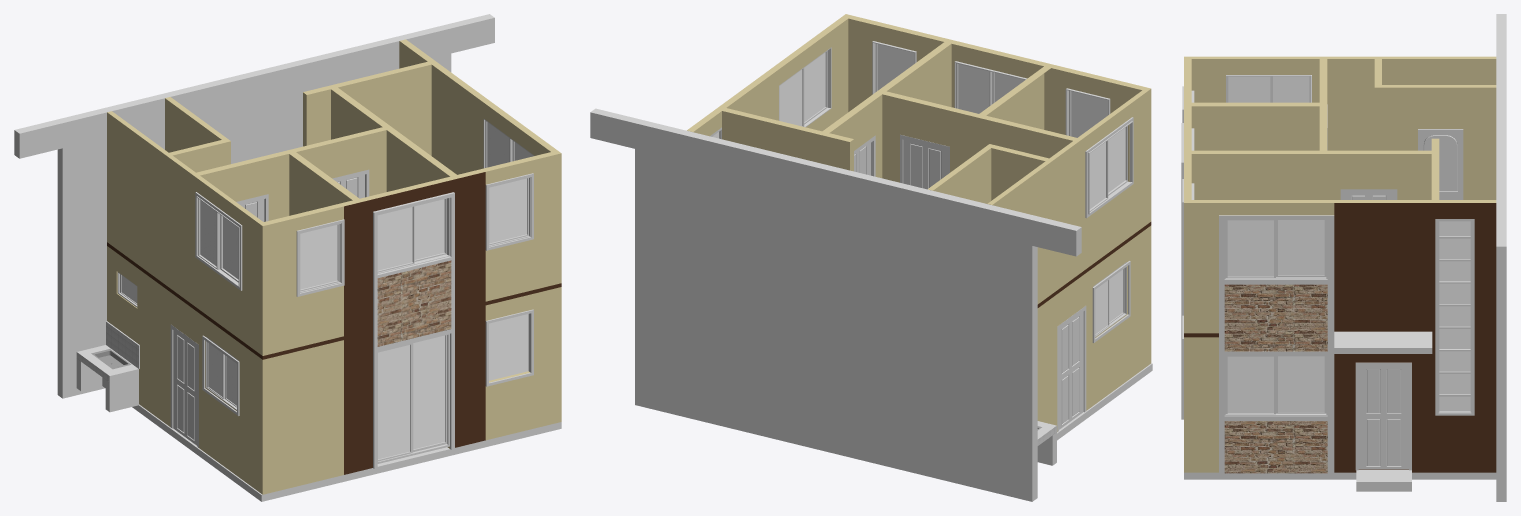
The model's file is linnea_2ndfloor.glb.
The picture shows the model from 3 angles, left to right: view 1: azimuth 30°, elevation 25°; view 2: azimuth 150°, elevation 25°; view 3: azimuth 270°, elevation 25°; orthographic projection. The views are drawn at different scales.
Visible parts, largest first — view 1: Plane.023, FIREWALL.002; view 2: FIREWALL.002, Plane.023; view 3: Plane.023, FIREWALL.002.
Boxes of the visible parts, left/top/right/bottom form: Plane.023: left=76, top=39, right=561, bottom=501; FIREWALL.002: left=14, top=14, right=494, bottom=398; FIREWALL.002: left=590, top=108, right=1081, bottom=501; Plane.023: left=687, top=14, right=1152, bottom=465; Plane.023: left=1181, top=56, right=1496, bottom=491; FIREWALL.002: left=1496, top=14, right=1506, bottom=501.
Size of the model in its own units: 9.18 by 5.09 by 5.43.
25 materials, 2 textured.
